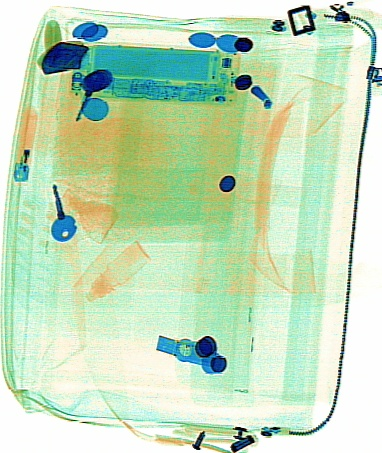lighter: (11, 105, 37, 182)
